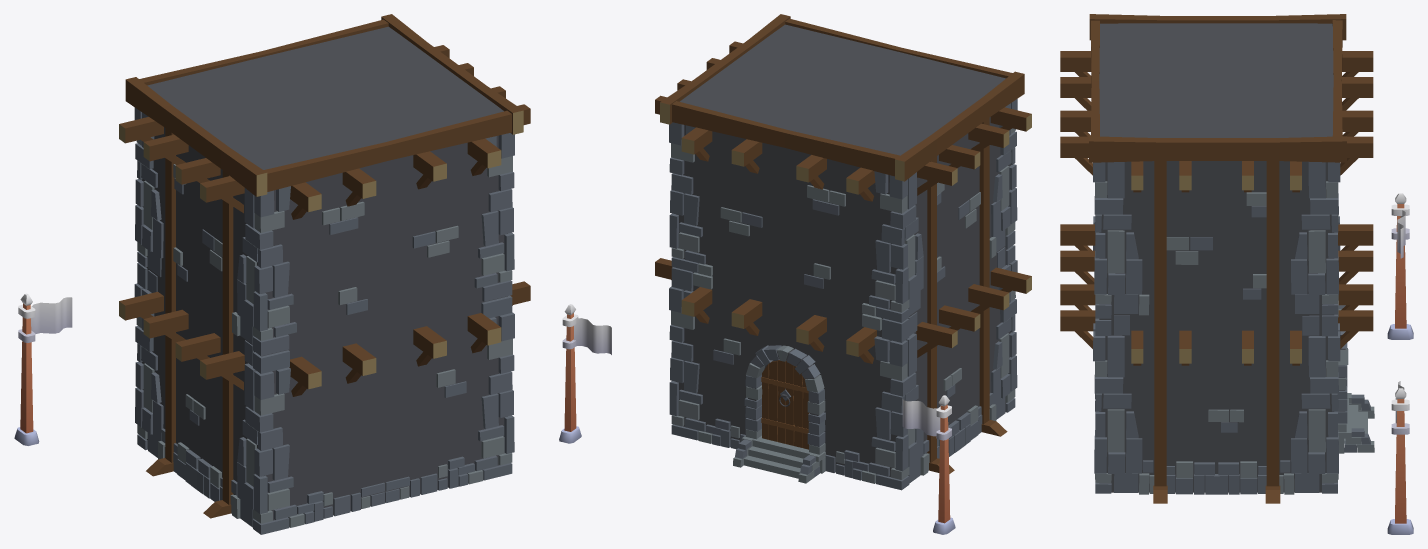
The model's file is london_diplomacy_1.glb.
The picture shows the model from 3 angles, left to right: view 1: azimuth 30°, elevation 25°; view 2: azimuth 150°, elevation 25°; view 3: azimuth 270°, elevation 25°; orthographic projection. The views are drawn at different scales.
Parts seen in each view (by area): view 1: House_3, flag-high; view 2: House_3, flag-high (×2); view 3: House_3, flag-high (×2).
Boxes of the visible parts, x1=… form: House_3: x1=119, y1=14, x2=530, y2=534; flag-high: x1=14, y1=293, x2=72, y2=445; House_3: x1=655, y1=14, x2=1031, y2=490; flag-high (×2): x1=559, y1=304, x2=955, y2=534; House_3: x1=1060, y1=14, x2=1374, y2=503; flag-high (×2): x1=1387, y1=193, x2=1413, y2=534.
Bounding box in the file's own units: 18.3 × 15 × 13.5.
7 materials, 1 textured.
